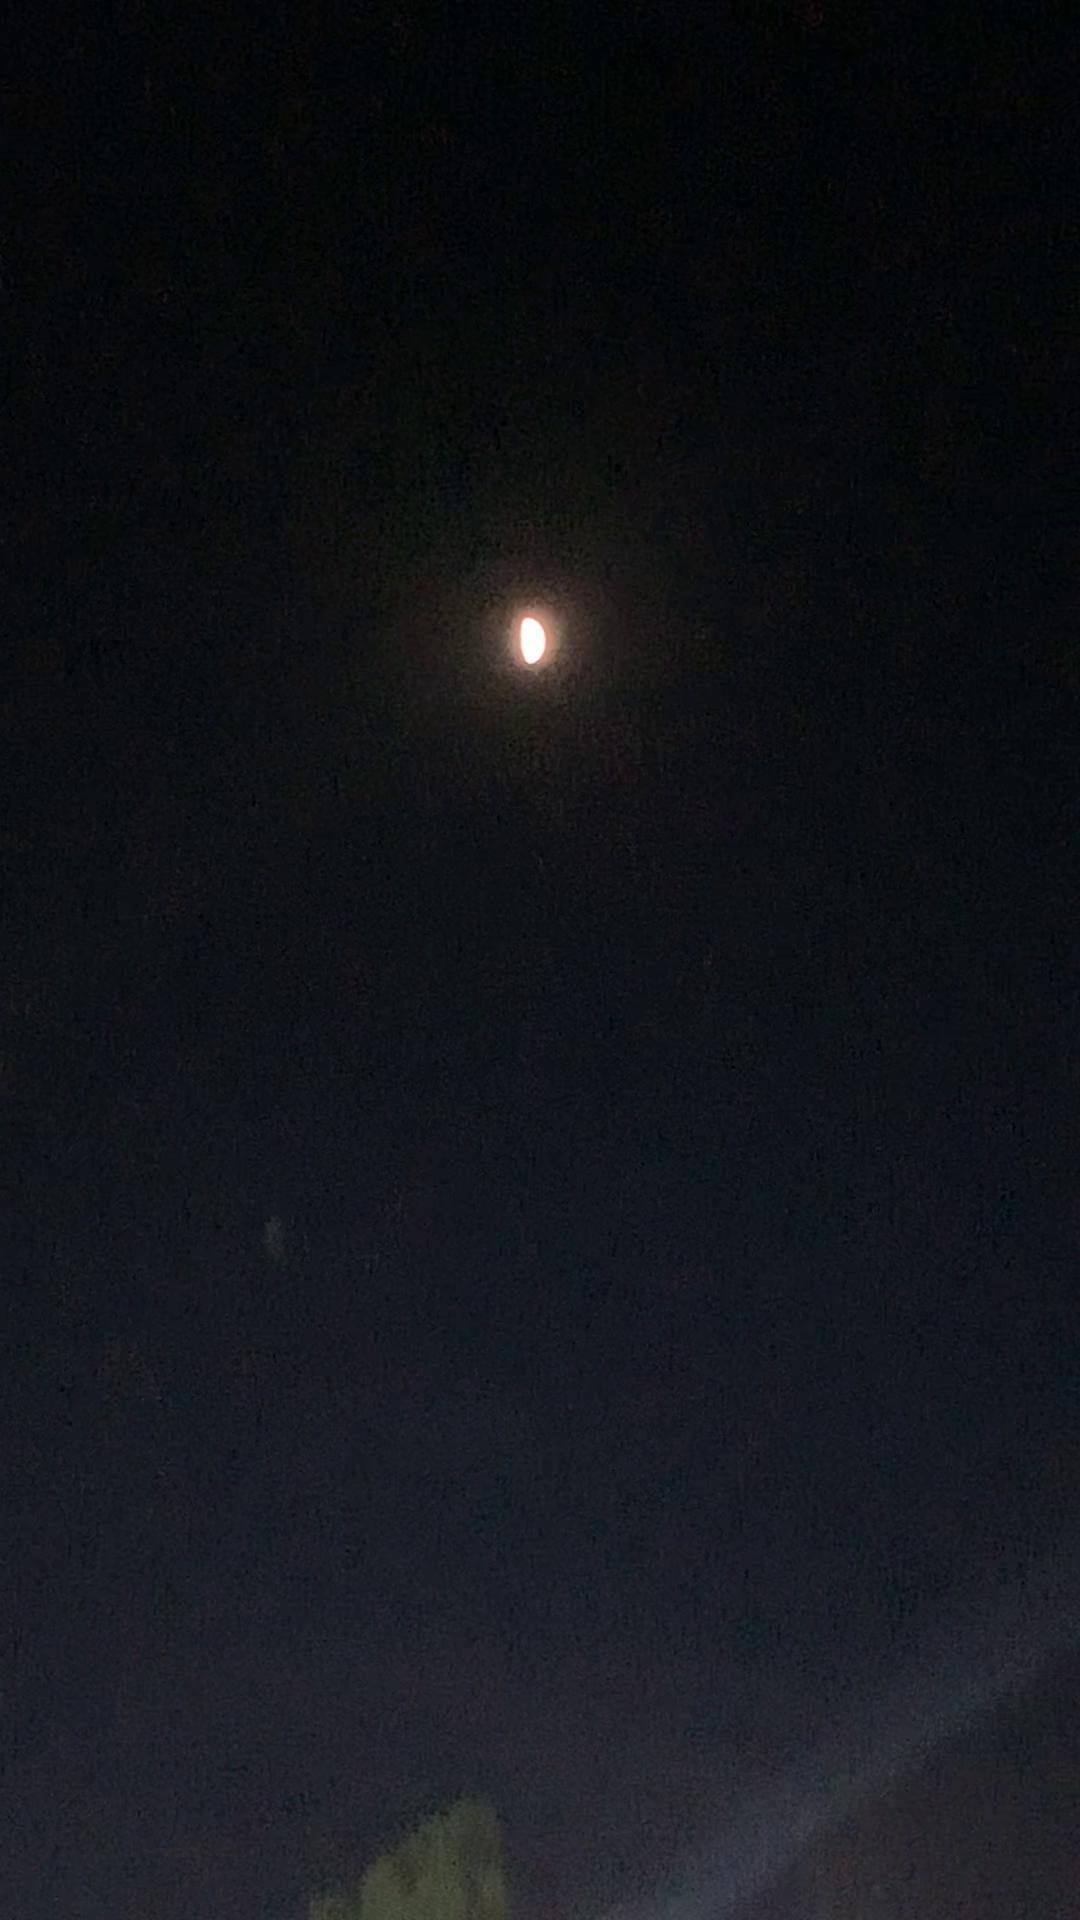moon: (492, 592, 567, 671)
